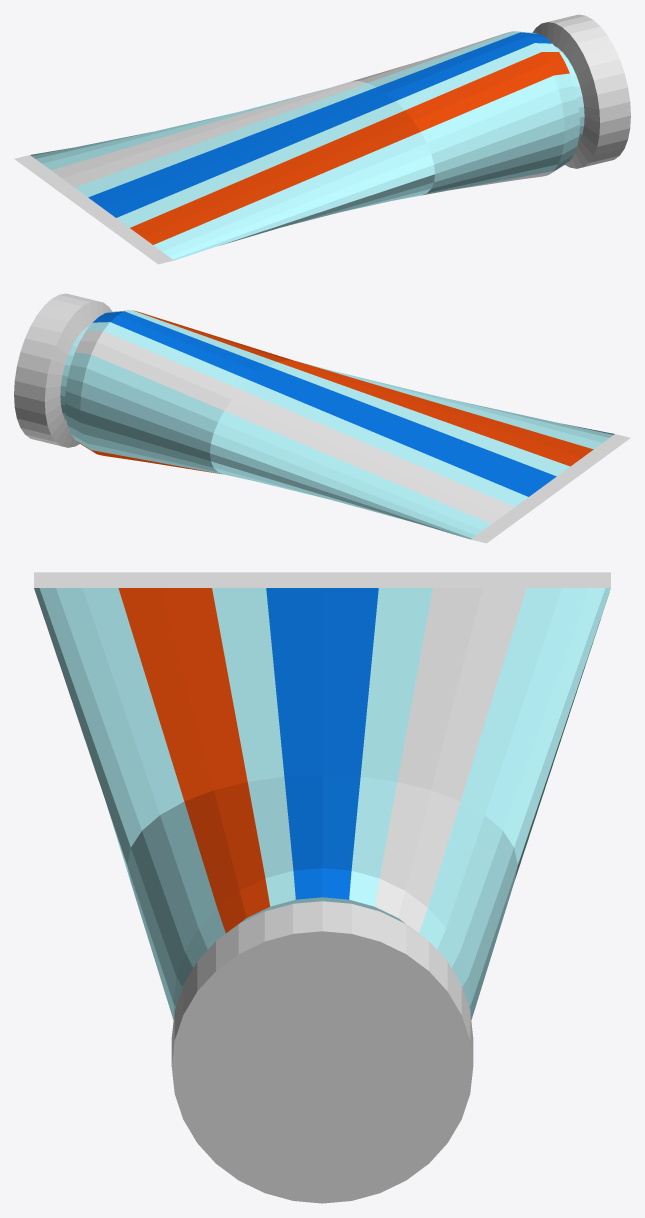
File: Toothpaste.fbx
3 views of the same model, one above another, from view 1: azimuth 30°, elevation 25°; view 2: azimuth 150°, elevation 25°; view 3: azimuth 270°, elevation 25° (orthographic). The views are drawn at different scales.
Parts seen in each view (by area): view 1: Цилиндр; view 2: Цилиндр; view 3: Цилиндр.
Part boxes in pixels (x1,y1,x2,y2): Цилиндр: (14,14,630,264); Цилиндр: (14,293,630,543); Цилиндр: (34,572,610,1203).
Bounding box in the file's own units: 715 × 184 × 353.
